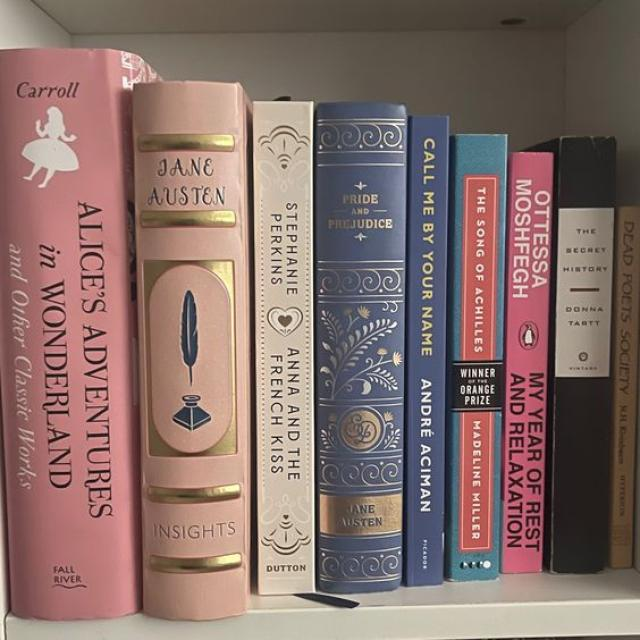book: (0, 50, 155, 620), (133, 82, 247, 618), (315, 102, 406, 591), (522, 137, 615, 573), (254, 101, 314, 593), (445, 134, 506, 580), (500, 152, 553, 572), (402, 116, 448, 586), (609, 207, 639, 569)
